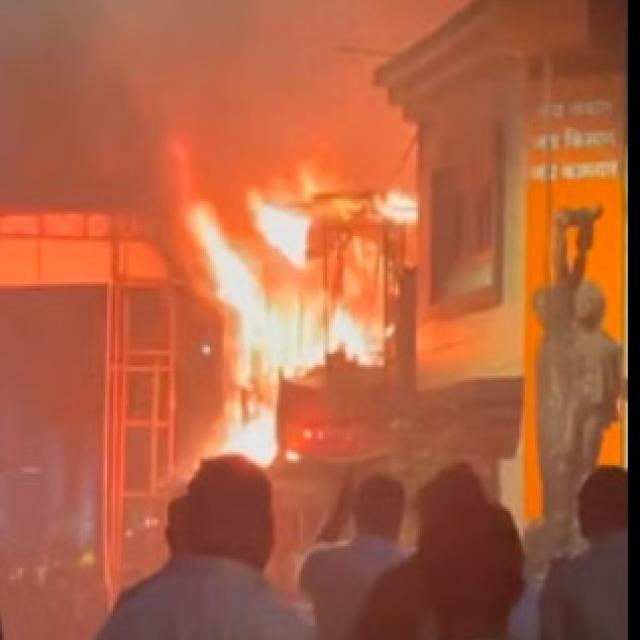fire: (187, 200, 295, 391), (295, 228, 396, 378), (248, 176, 332, 270), (191, 390, 275, 470), (329, 187, 418, 229)
